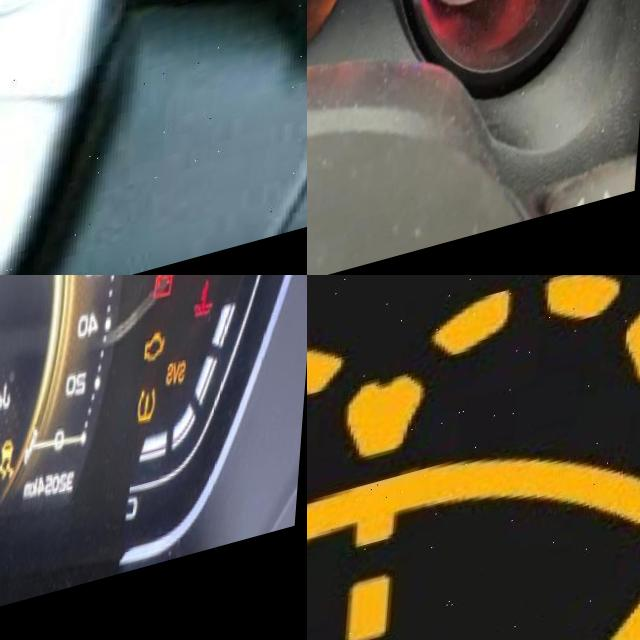High Engine Coolant Temperature: (196, 300, 224, 356)
Seat Belt: (189, 275, 214, 301)
Washer Fluid: (307, 275, 640, 640)
